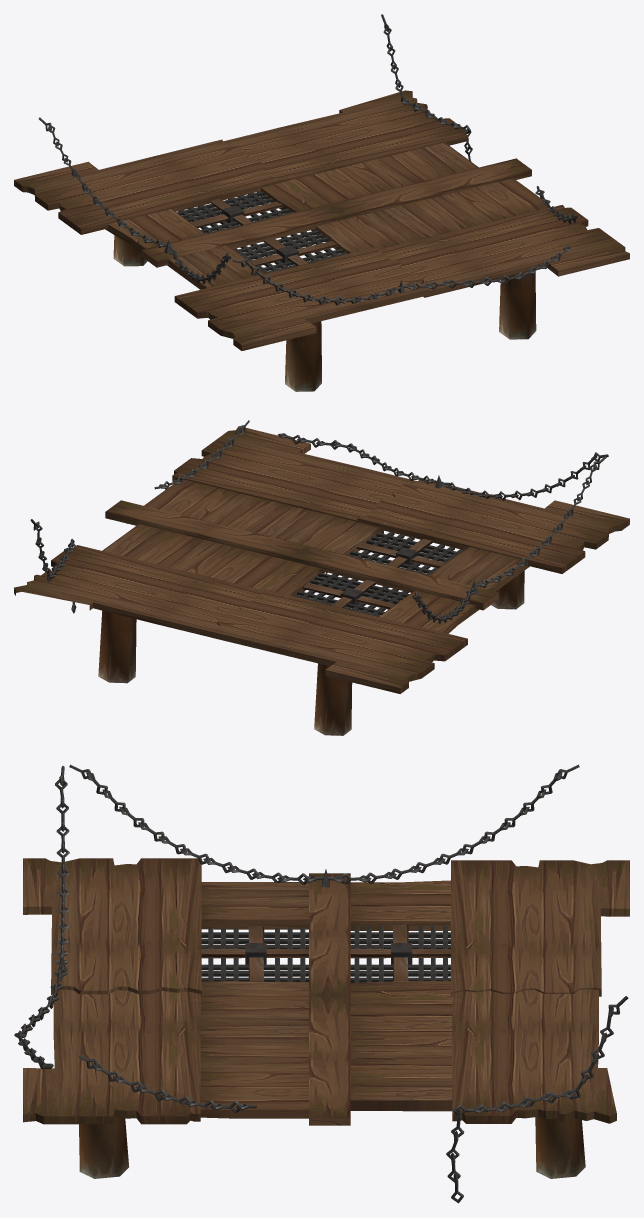
Rendered from Anmaodao_chusheng.FBX.
3 renders of one model, top to bottom at view 1: azimuth 30°, elevation 25°; view 2: azimuth 150°, elevation 25°; view 3: azimuth 270°, elevation 25°, orthographic. The views are drawn at different scales.
Parts seen in each view (by area): view 1: Anmaodao_chusheng; view 2: Anmaodao_chusheng; view 3: Anmaodao_chusheng.
Boxes of the visible parts, x1,y1,x2,y2 form: Anmaodao_chusheng: (14, 14, 629, 391); Anmaodao_chusheng: (14, 420, 629, 735); Anmaodao_chusheng: (14, 764, 629, 1203).
Bounding box in the file's own units: 461 × 464 × 178.
